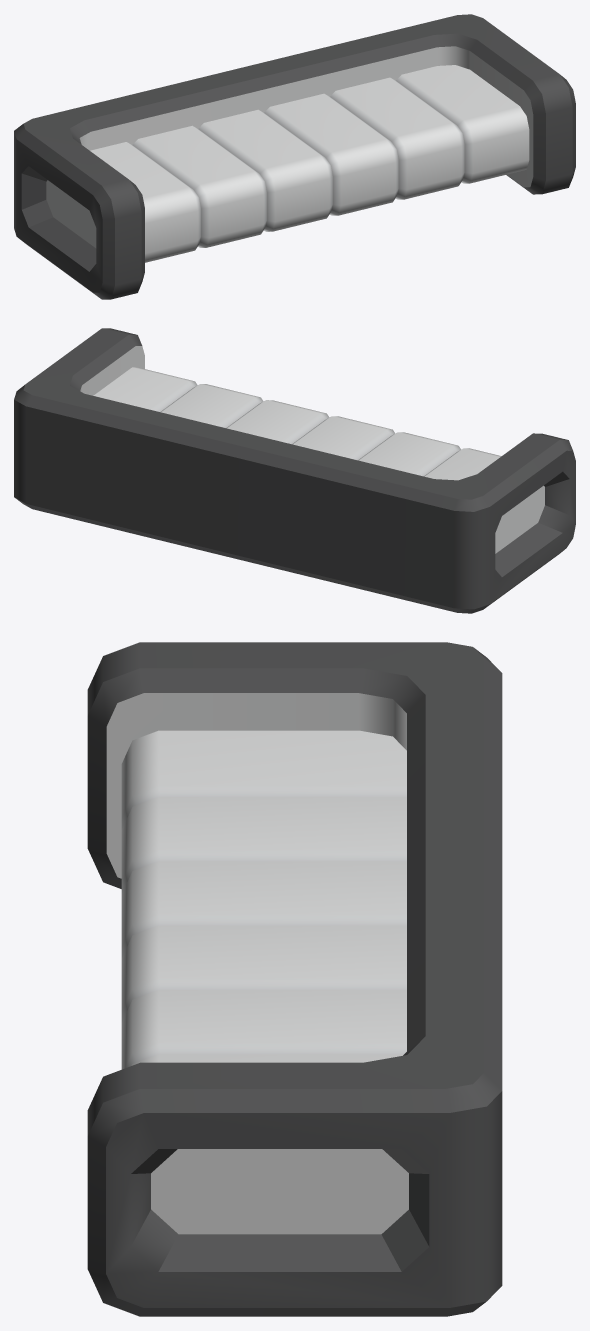
The model's file is Sofa_007.glb.
The picture shows the model from 3 angles, top to bottom: view 1: azimuth 30°, elevation 25°; view 2: azimuth 150°, elevation 25°; view 3: azimuth 270°, elevation 25°; orthographic projection. The views are drawn at different scales.
Visible parts, largest first — view 1: Sofa_007; view 2: Sofa_007; view 3: Sofa_007.
Part boxes in pixels (x1,y1,x2,y2): Sofa_007: (14, 14, 575, 299); Sofa_007: (14, 328, 575, 613); Sofa_007: (87, 642, 502, 1316).
Size of the model in its own units: 2.25 by 0.5187 by 0.8546.
Materials: 1 (1 with a texture image).
